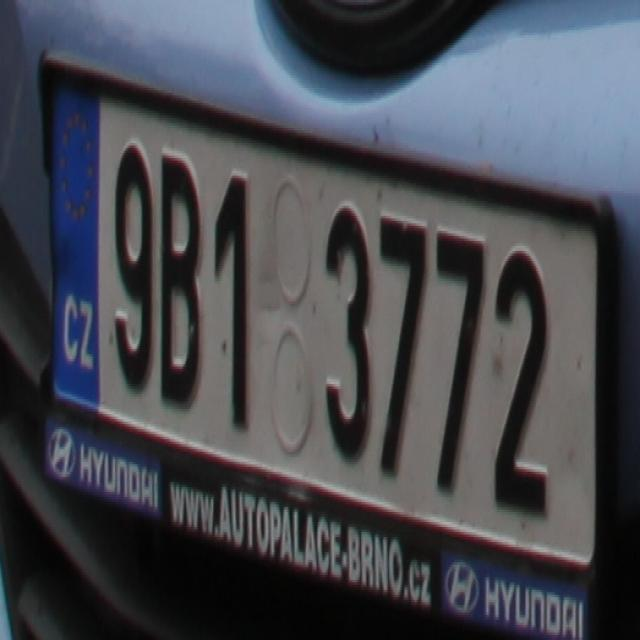1: (213, 163, 251, 434)
2: (484, 238, 552, 522)
3: (326, 201, 378, 464)
7: (427, 221, 486, 494), (376, 206, 427, 482)
9: (110, 136, 157, 397)
B: (156, 138, 204, 417)
